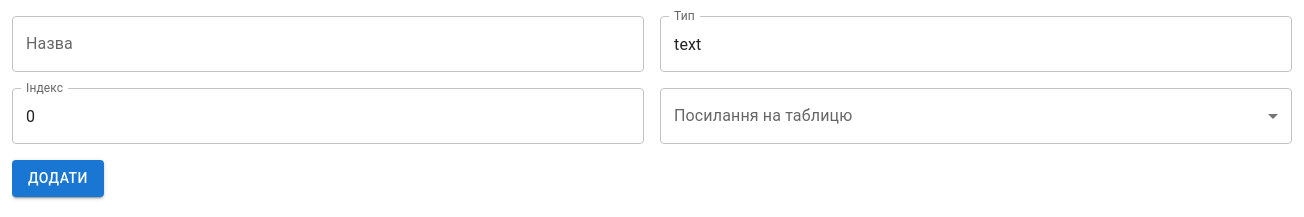
FieldDefinitionForm › disables submit button when submitting
In the field labelled "Назва": [328, 44] box x1=12 y1=16 x2=644 y2=72, type "Test 3"
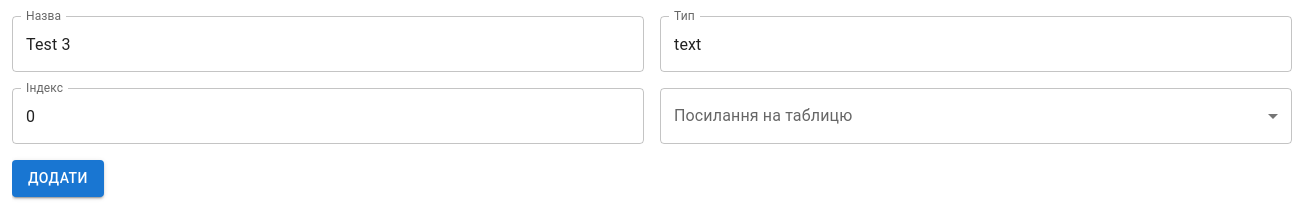
Replace the text in the field labelled "Тип" with "number": [976, 44] box x1=660 y1=16 x2=1292 y2=72
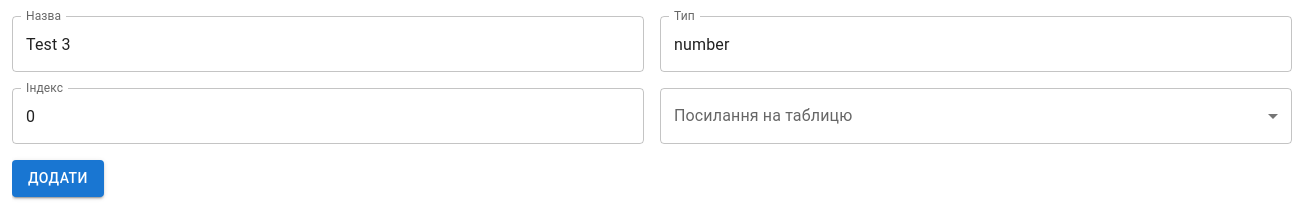
Replace the text in the number field labelled "Індекс" with "3": [328, 116] box x1=12 y1=88 x2=644 y2=144
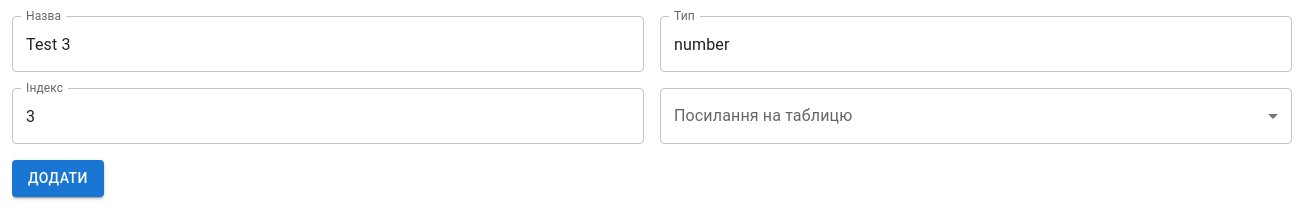
Click the button "Додати": [58, 178] box x1=12 y1=160 x2=104 y2=196
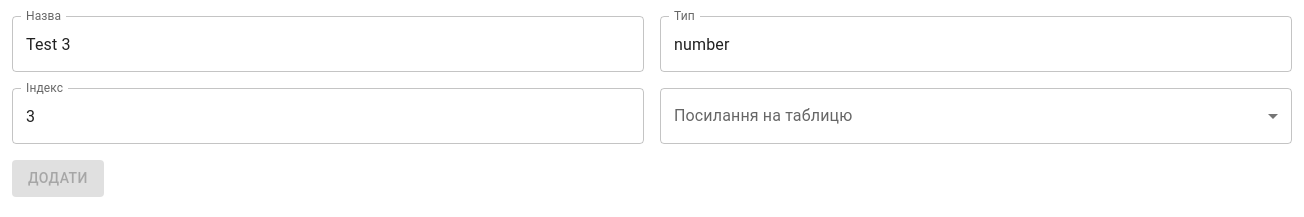
Now the button "Додати" is disabled, box x1=12 y1=160 x2=104 y2=196
